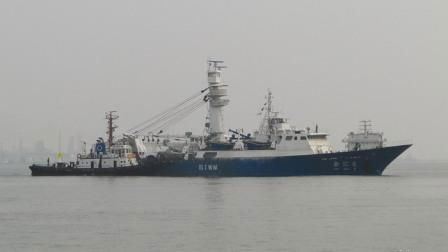warship: (31, 64, 420, 180)
